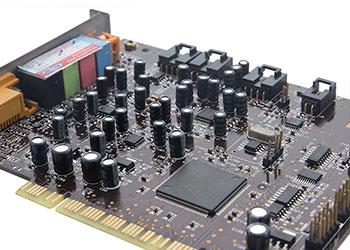capacitor: (50, 141, 76, 182), (167, 127, 193, 166), (99, 155, 123, 193), (81, 149, 103, 189), (26, 134, 51, 169), (213, 108, 231, 148), (234, 87, 254, 121), (176, 107, 198, 135), (87, 127, 112, 151), (51, 112, 70, 141), (158, 94, 177, 123), (247, 203, 272, 225), (150, 121, 170, 148), (70, 95, 89, 123), (131, 84, 149, 113), (84, 88, 101, 115), (137, 73, 156, 97), (146, 97, 164, 121), (114, 107, 129, 135), (131, 54, 147, 80), (173, 83, 189, 109), (102, 116, 118, 141), (195, 73, 209, 101), (181, 77, 198, 100), (95, 73, 110, 99), (210, 77, 223, 106), (220, 86, 235, 111), (104, 63, 118, 88), (115, 64, 129, 89), (114, 91, 130, 107), (224, 70, 238, 88), (238, 58, 252, 74), (234, 62, 243, 81)
